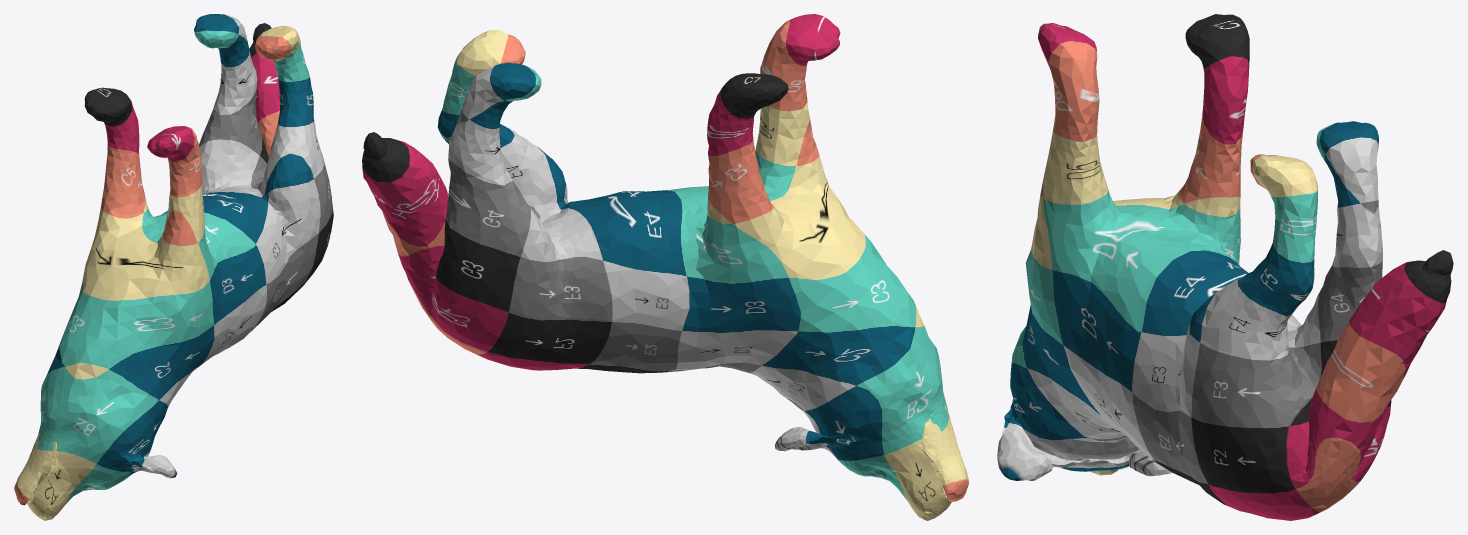
File: horse_01-wolf_03.obj
The picture shows the model from 3 angles, left to right: view 1: azimuth 30°, elevation 25°; view 2: azimuth 150°, elevation 25°; view 3: azimuth 270°, elevation 25°; orthographic projection. The views are drawn at different scales.
Parts seen in each view (by area): view 1: horse_01-wolf_03_export; view 2: horse_01-wolf_03_export; view 3: horse_01-wolf_03_export.
Part boxes in pixels (left/top/right/bottom): horse_01-wolf_03_export: left=14, top=14, right=333, bottom=520; horse_01-wolf_03_export: left=362, top=14, right=968, bottom=520; horse_01-wolf_03_export: left=997, top=14, right=1453, bottom=520.
Size of the model in its own units: 0.7472 by 0.7014 by 0.551.
